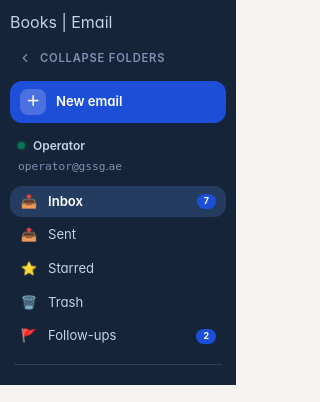
Scenario: FolderRail personal folders after the Outlook cutover › shows its header first only while expanded in en
Click the button "Collapse folders" at (118, 58), box [10,44,226,73]
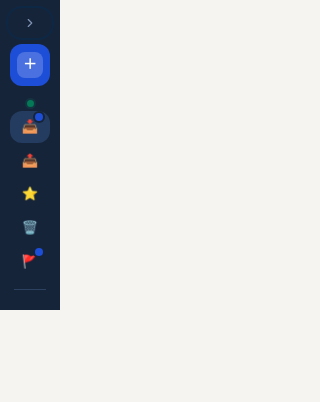
Expected: the text with test id "rail-header" is gone
Click the button named "Expand folders" at (30, 23), box [10,10,50,36]
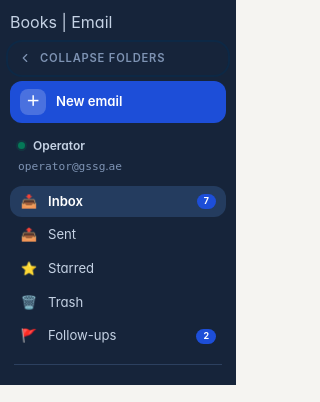
Expected: the text "Books | Email" is shown, [10,12,112,32]
